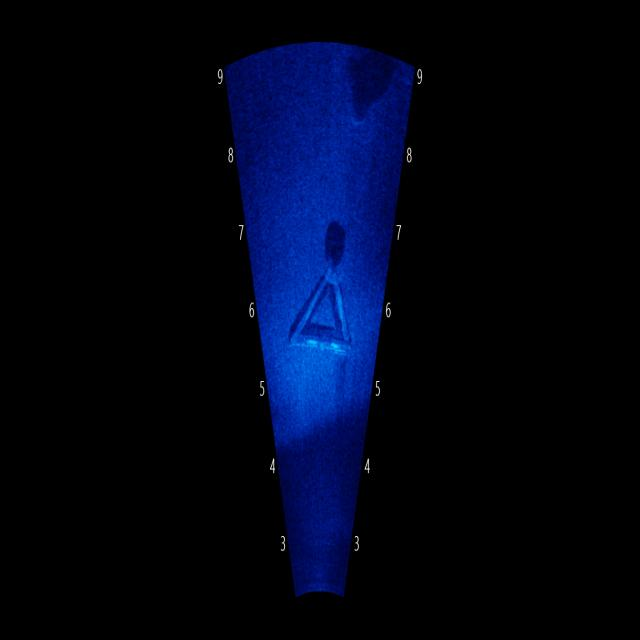triangle: (282, 224, 366, 394)
